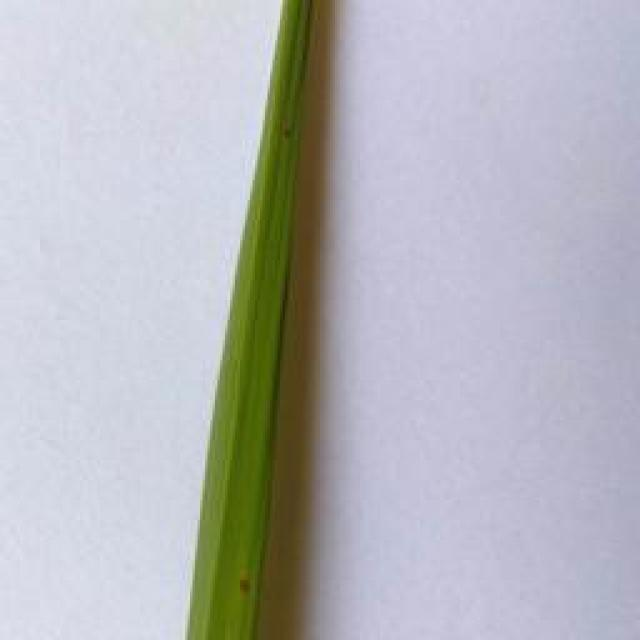Brown_Spot: (221, 568, 262, 602), (278, 116, 301, 152)
